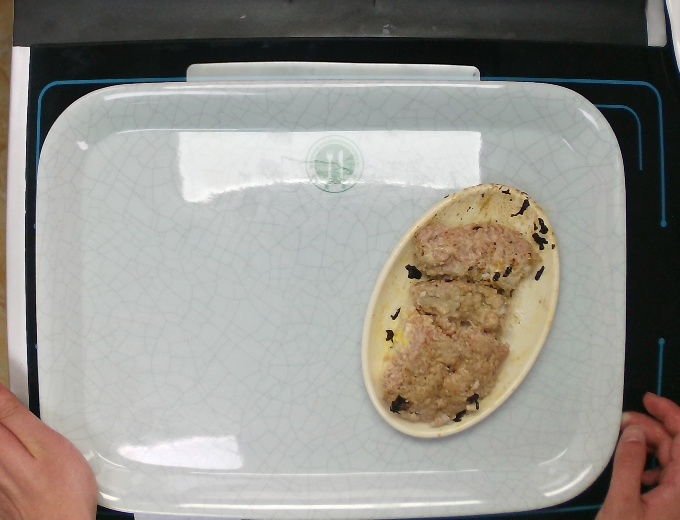JYsf-Tuo_Yuan_Wan: (357, 181, 568, 439)
